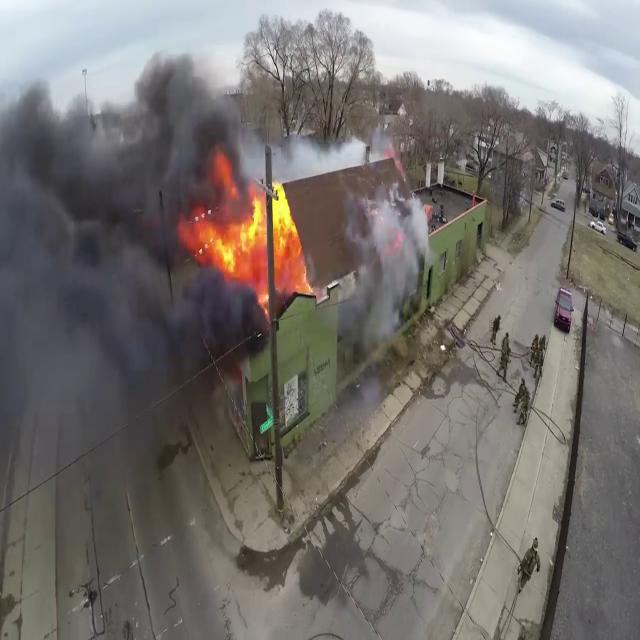Fire: (186, 180, 308, 296)
Smoke: (0, 35, 238, 533), (349, 186, 438, 358)
